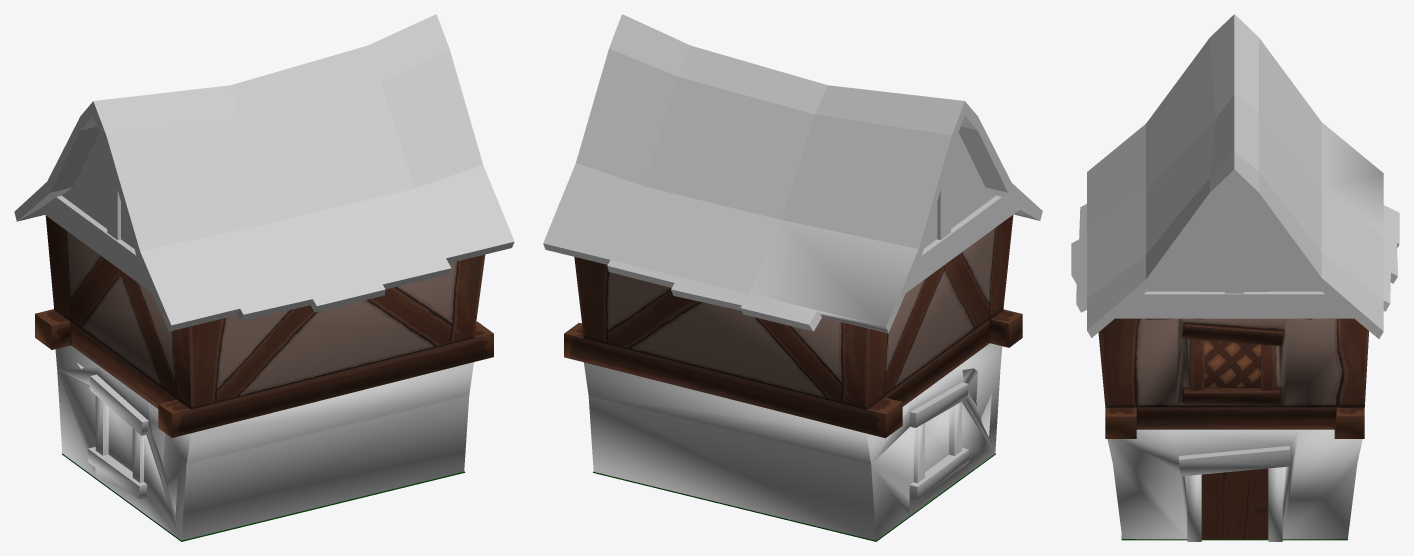
Rendered from house1.2.fbx.
The picture shows the model from 3 angles, left to right: view 1: azimuth 30°, elevation 25°; view 2: azimuth 150°, elevation 25°; view 3: azimuth 270°, elevation 25°; orthographic projection. The views are drawn at different scales.
Parts seen in each view (by area): view 1: Cube.000, Cube.013, Cube.004, Плоскость.002; view 2: Cube.000, Cube.013, Cube.004, Плоскость.002; view 3: Cube.000, Cube.013, Cube.004, Cube.005, Плоскость.002.
Boxes of the visible parts, x1=… form: Cube.000: x1=14, y1=14, x2=514, y2=331; Cube.013: x1=35, y1=215, x2=493, y2=437; Cube.004: x1=55, y1=345, x2=473, y2=540; Плоскость.002: x1=62, y1=453, x2=465, y2=541; Cube.000: x1=543, y1=14, x2=1042, y2=333; Cube.013: x1=564, y1=215, x2=1022, y2=438; Cube.004: x1=584, y1=343, x2=1002, y2=540; Плоскость.002: x1=593, y1=453, x2=995, y2=541; Cube.000: x1=1071, y1=14, x2=1399, y2=338; Cube.013: x1=1098, y1=318, x2=1368, y2=438; Cube.004: x1=1107, y1=429, x2=1362, y2=541; Cube.005: x1=1201, y1=468, x2=1268, y2=539; Плоскость.002: x1=1121, y1=535, x2=1347, y2=540.
Bounding box in the file's own units: 406 × 461 × 355.
